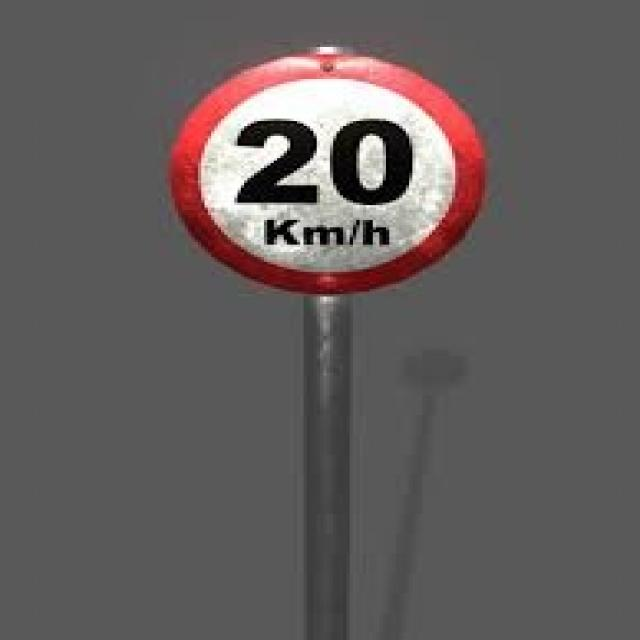speed_limit_20: (164, 47, 495, 298)
